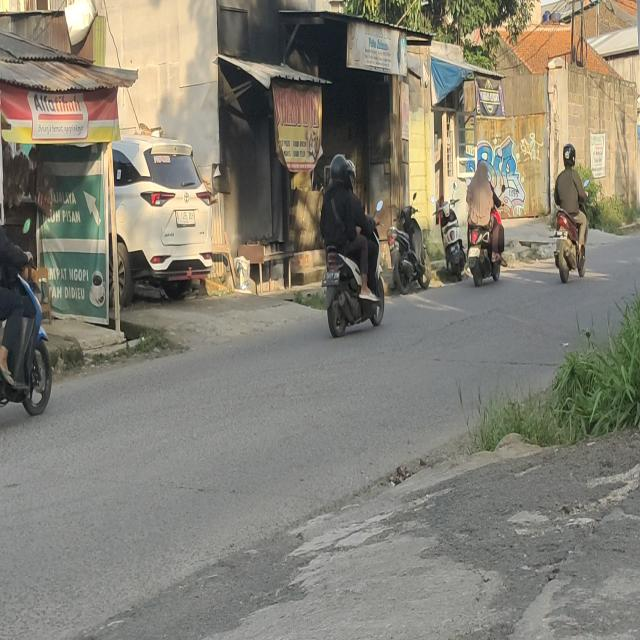helmet: (330, 156, 348, 190), (563, 144, 577, 168), (346, 160, 356, 188)
no-helmet: (477, 161, 489, 180)
